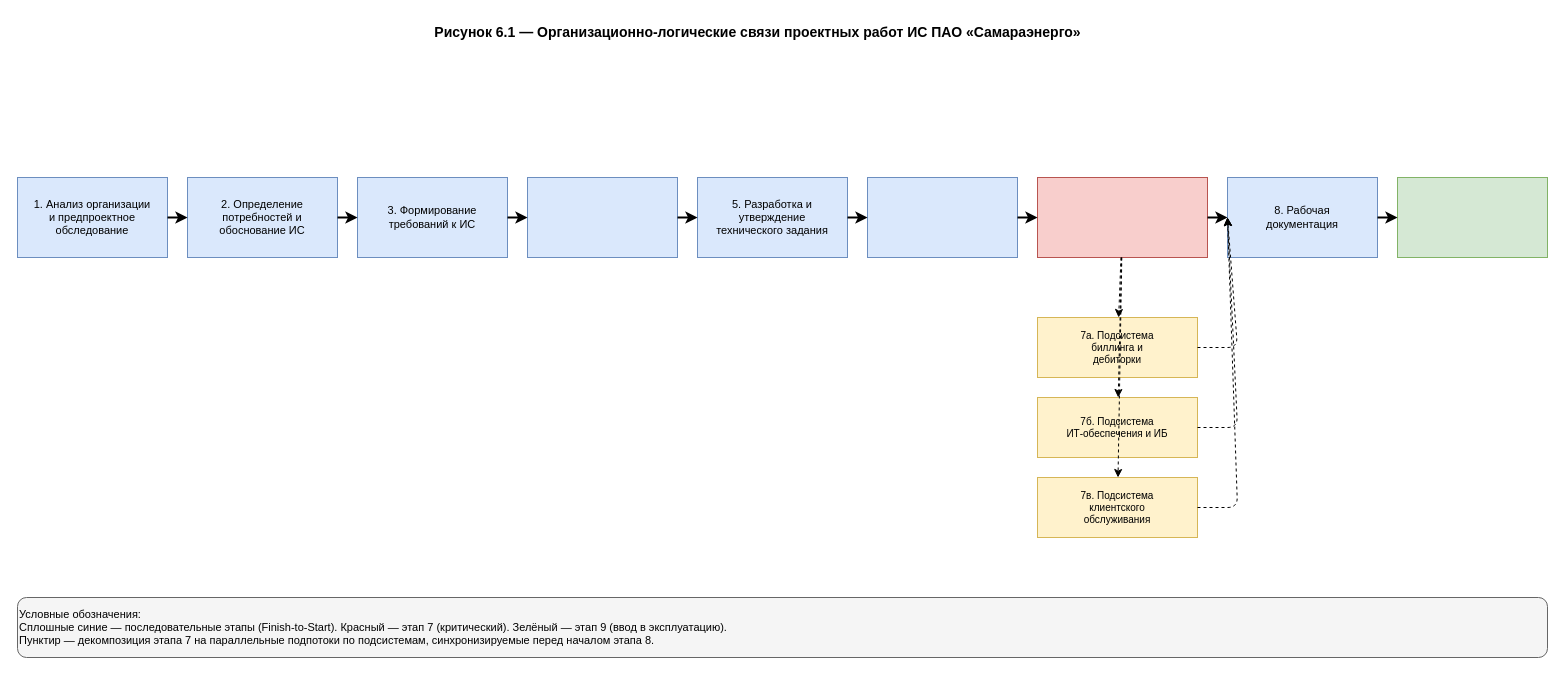
This 1565x675 diagram has some shape labels left out. The shapes that lost their labels are listed below. From the top down, each one's centre as x and y in pixels, then its label:
(602,217): 4. Разработка концепции ИС
(942,217): 6. Эскизный проект (предварительные проектные решения)
(1122,217): 7. Технический и рабочий проект (разработка ПО, BPM)
(1472,217): 9. Тестирование и ввод в эксплуатацию
